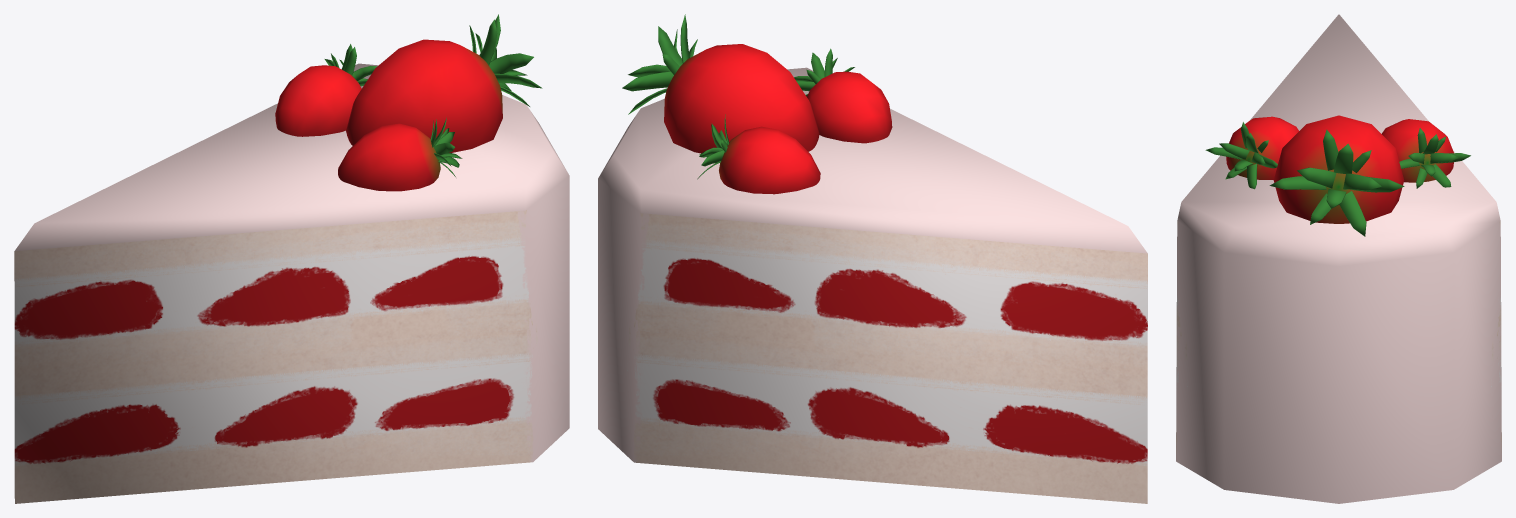
Rendered from CakePowerUp.fbx.
3 renders of one model, left to right at view 1: azimuth 30°, elevation 25°; view 2: azimuth 150°, elevation 25°; view 3: azimuth 270°, elevation 25°, orthographic. The views are drawn at different scales.
Visible parts, largest first — view 1: BoloPowerUp, MorangoPowerUp; view 2: BoloPowerUp, MorangoPowerUp; view 3: BoloPowerUp, MorangoPowerUp.
Part boxes in pixels (left/top/right/bottom): BoloPowerUp: left=14, top=63, right=569, bottom=503; MorangoPowerUp: left=275, top=14, right=542, bottom=191; BoloPowerUp: left=598, top=67, right=1147, bottom=503; MorangoPowerUp: left=622, top=14, right=892, bottom=194; BoloPowerUp: left=1176, top=14, right=1501, bottom=503; MorangoPowerUp: left=1205, top=115, right=1470, bottom=236.
Bounding box in the file's own units: 136 × 93.06 × 78.25.
